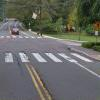Crosswalk: (5, 45, 100, 76)
